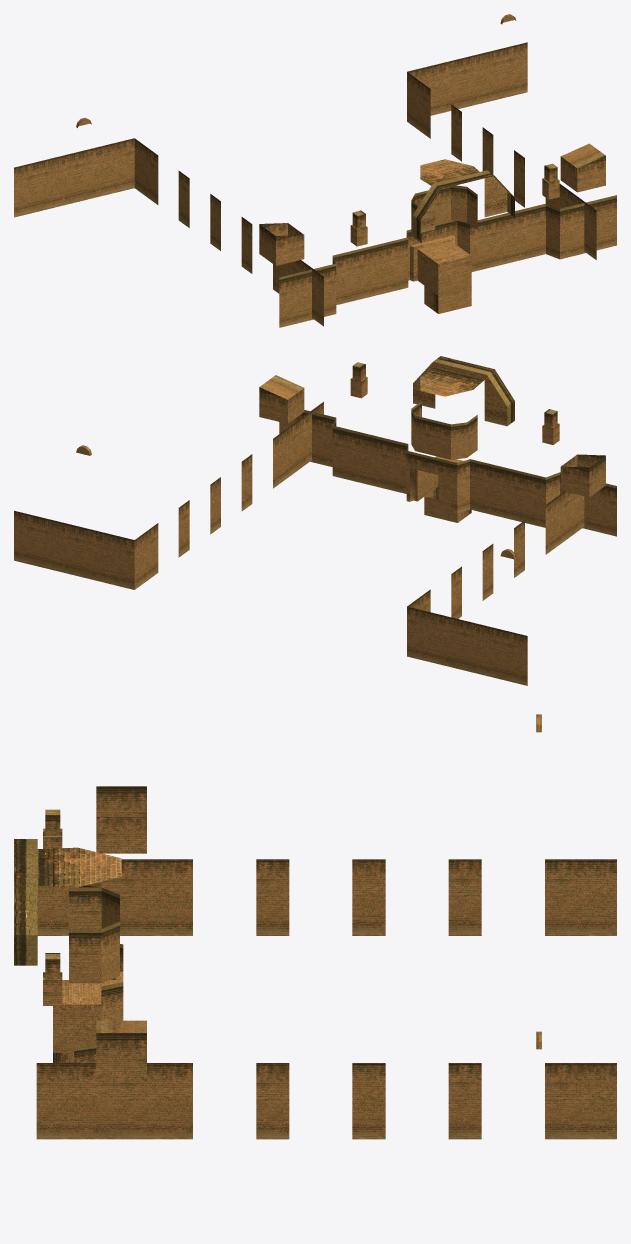
Rendered from SteamHouse_birck1.fbx.
The picture shows the model from 3 angles, top to bottom: view 1: azimuth 30°, elevation 25°; view 2: azimuth 150°, elevation 25°; view 3: azimuth 270°, elevation 25°; orthographic projection. The views are drawn at different scales.
Visible parts, largest first — view 1: SteamHouse_birck1; view 2: SteamHouse_birck1; view 3: SteamHouse_birck1.
Part boxes in pixels (x1,y1,x2,y2): SteamHouse_birck1: [14, 14, 616, 327]; SteamHouse_birck1: [14, 356, 616, 685]; SteamHouse_birck1: [14, 714, 616, 1139].
Size of the model in its own units: 471 by 120 by 313.
